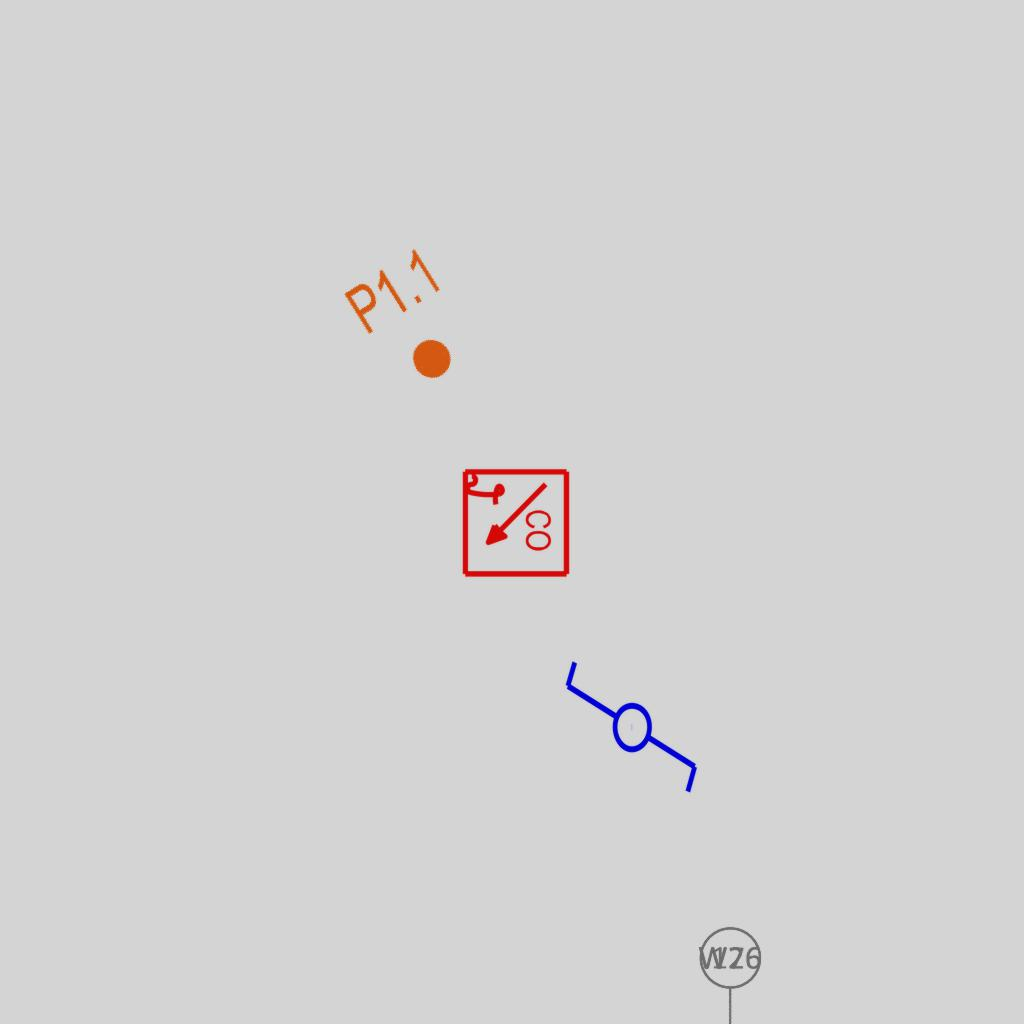Downlight_LED_Einbauleuchten_Flur: (339, 243, 486, 401)
ROA_Rauchmelder_optisch_mit_Signalgeber_(Sockelsirene): (458, 467, 571, 580)
Wechselschalter: (558, 657, 702, 814)
